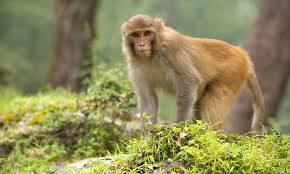monkey: (98, 2, 290, 154)
